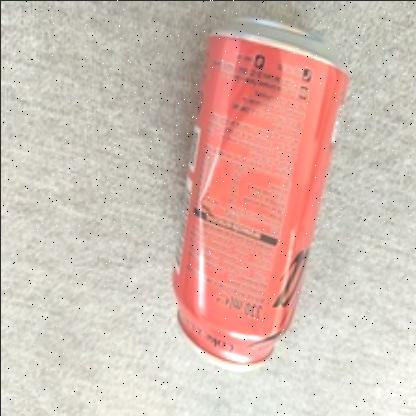Can: (168, 17, 350, 371)
